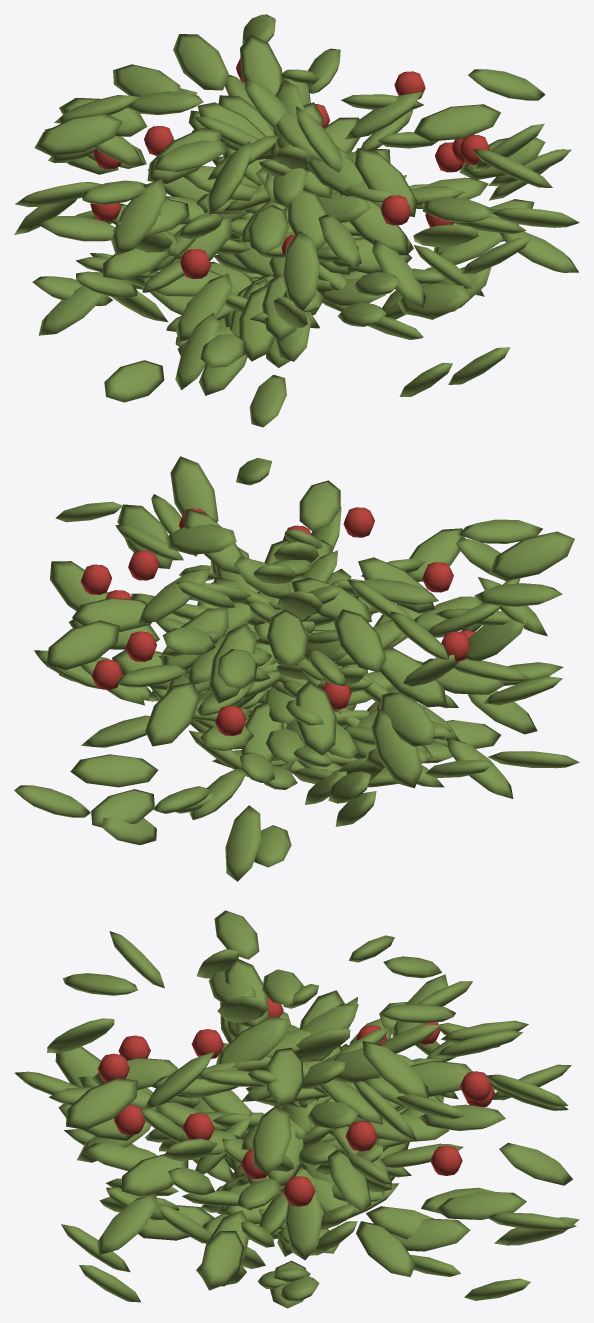
The model's file is berry_bush.glb.
3 views of the same model, one above another, from view 1: azimuth 30°, elevation 25°; view 2: azimuth 150°, elevation 25°; view 3: azimuth 270°, elevation 25° (orthographic).
Visible parts, largest first — view 1: berry_bush; view 2: berry_bush; view 3: berry_bush.
Boxes of the visible parts, x1,y1,x2,y2 form: berry_bush: (14,14,579,427); berry_bush: (14,456,579,881); berry_bush: (14,910,579,1308).
Size of the model in its own units: 1.24 by 0.6026 by 1.22.
